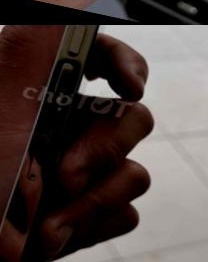scratch: (49, 94, 72, 123)
